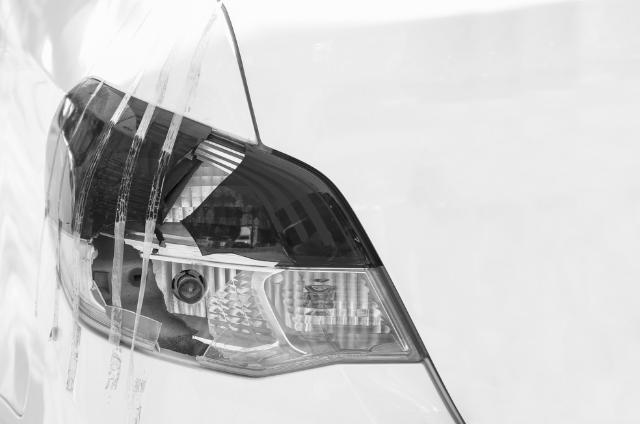Light: (43, 77, 425, 377)
